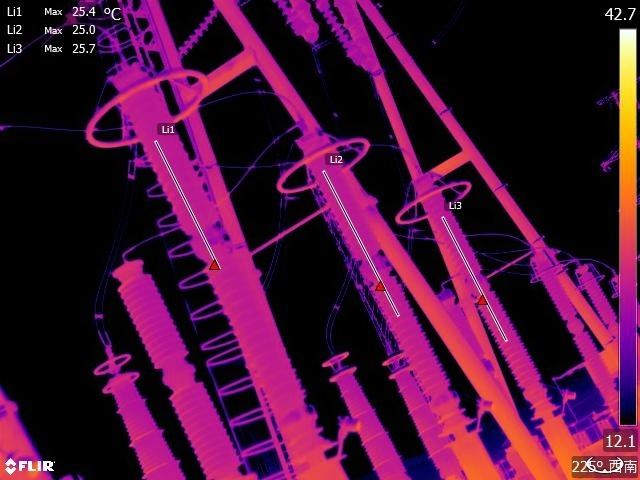insulator: (318, 1, 366, 63), (178, 4, 219, 59), (276, 1, 316, 40)
lightning arrester: (83, 50, 320, 458), (274, 110, 472, 433), (400, 162, 557, 412), (530, 249, 615, 405), (573, 263, 620, 339)
potential transformer: (111, 251, 249, 480)
tube: (88, 349, 188, 480), (326, 348, 415, 480), (387, 347, 466, 480)
